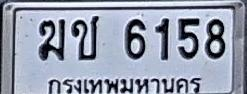1: (155, 18, 169, 60)
5: (178, 17, 200, 59)
6: (125, 18, 146, 59)
8: (205, 18, 225, 59)
A06: (38, 19, 65, 60)
A10: (71, 15, 99, 60)
BKK: (45, 75, 205, 94)
